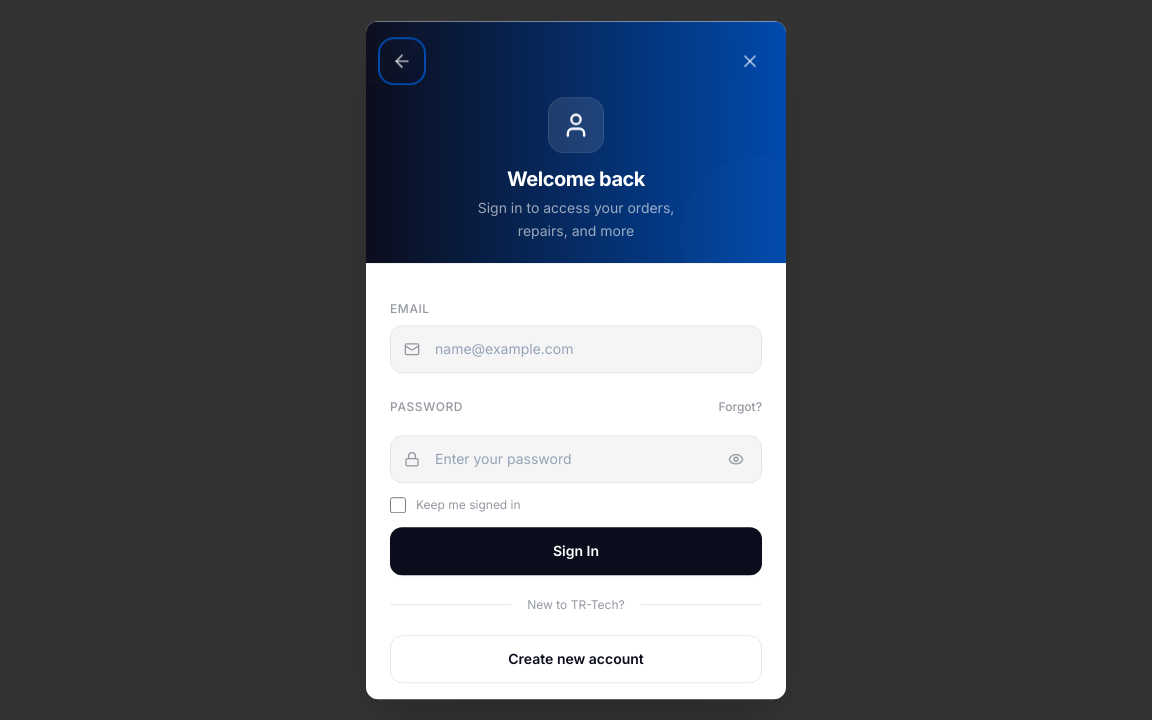
AuthModal › switches to register mode when clicked
The image size is (1152, 720).
Click the button with test id "auth-switch-mode": x=576, y=659 [390,635,762,683]
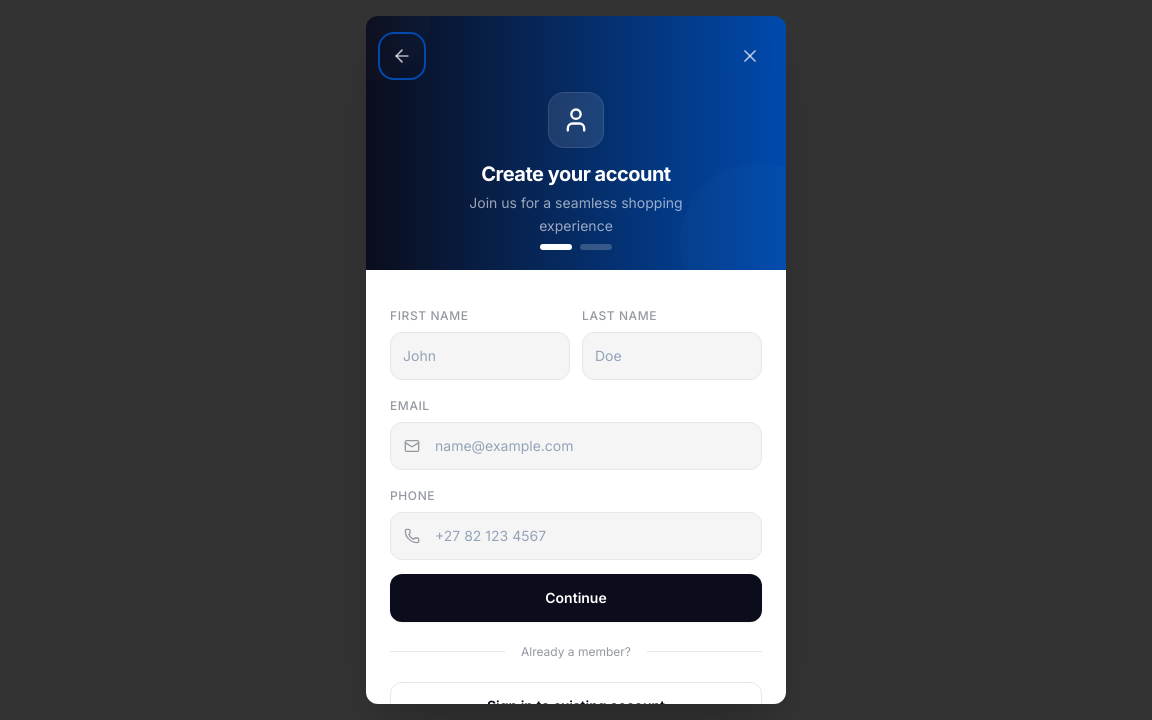
Expected: the field with test id "auth-email" is shown, [390,422,762,470]
Now the field with test id "auth-firstName" is shown, box [390,332,570,380]
Now the password field with test id "auth-password" is gone
